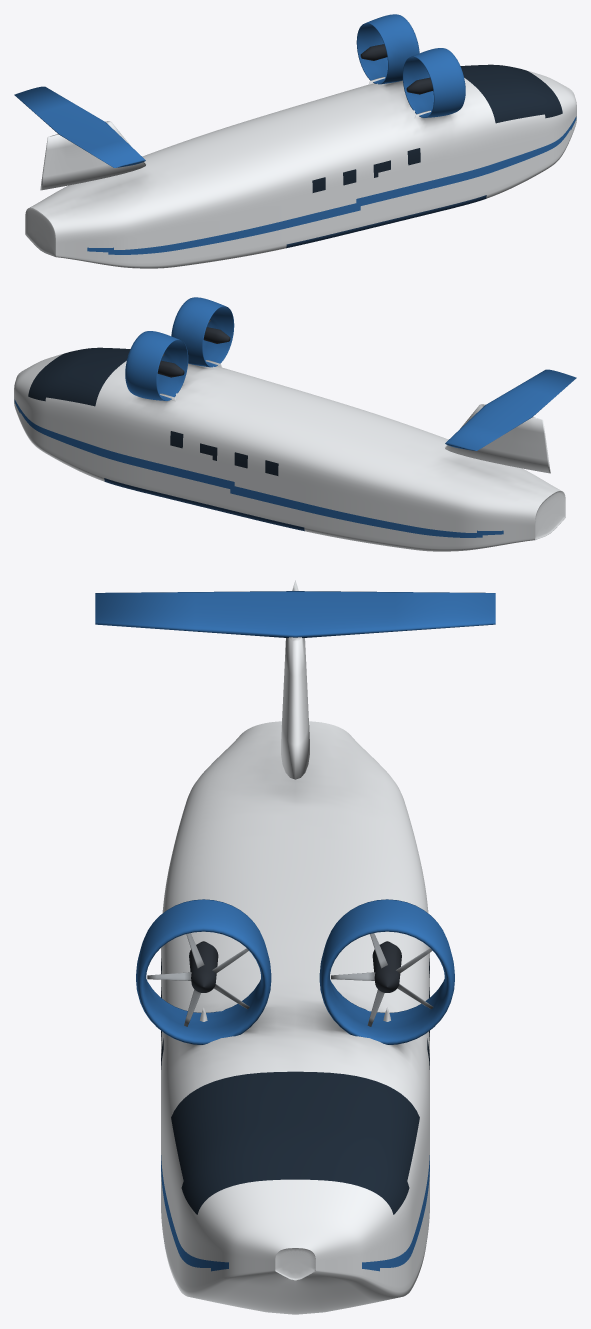
Rendered from volga2.glb.
3 renders of one model, top to bottom at view 1: azimuth 30°, elevation 25°; view 2: azimuth 150°, elevation 25°; view 3: azimuth 270°, elevation 25°, orthographic. The views are drawn at different scales.
Visible parts, largest first — view 1: hull, stab, duct1, duct-1, fin, fanhub-1; view 2: hull, stab, duct-1, duct1, fin, fanhub1; view 3: hull, stab, duct-1, duct1, fin, prop_f2, prop_f1, fanhub-1, fanhub1.
Part boxes in pixels (left/top/right/bottom): hull: left=25, top=64, right=576, bottom=268; stab: left=14, top=86, right=145, bottom=167; duct1: left=402, top=48, right=465, bottom=117; duct-1: left=356, top=14, right=419, bottom=84; fin: left=40, top=121, right=145, bottom=190; fanhub-1: left=360, top=44, right=387, bottom=60; hull: left=14, top=347, right=565, bottom=551; stab: left=445, top=369, right=576, bottom=450; duct-1: left=125, top=331, right=188, bottom=400; duct1: left=171, top=297, right=234, bottom=367; fin: left=445, top=404, right=550, bottom=473; fanhub1: left=203, top=327, right=230, bottom=343; hull: left=161, top=721, right=429, bottom=1314; stab: left=95, top=591, right=495, bottom=637; duct-1: left=319, top=899, right=454, bottom=1044; duct1: left=136, top=899, right=271, bottom=1044; fin: left=281, top=580, right=309, bottom=779; prop_f2: left=331, top=933, right=433, bottom=1026; prop_f1: left=147, top=933, right=249, bottom=1026; fanhub-1: left=372, top=941, right=401, bottom=992; fanhub1: left=189, top=941, right=218, bottom=992.
Bounding box in the file's own units: 0.9993 × 0.2908 × 0.3273.
